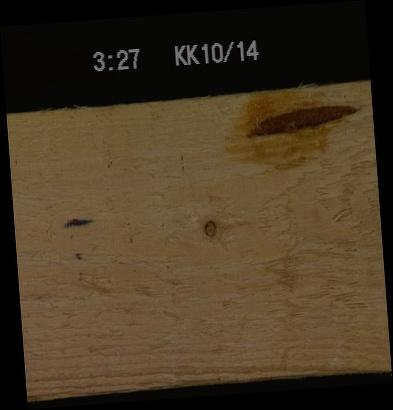dry_knot: (200, 219, 219, 239)
